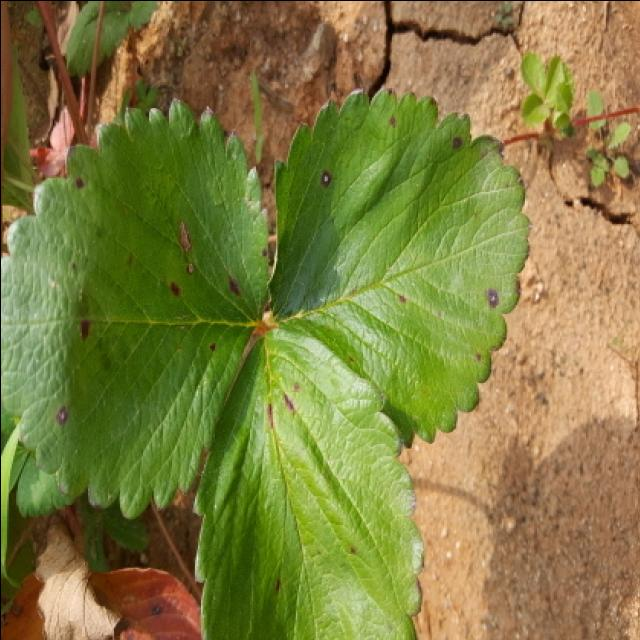Leaf Spot: (0, 97, 271, 520), (265, 87, 532, 448), (189, 327, 426, 640)
